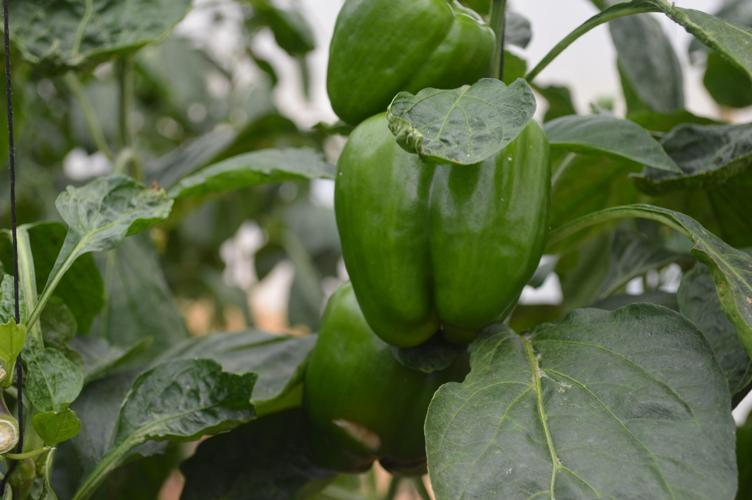BellPepper: (333, 110, 549, 338), (309, 285, 472, 473), (326, 6, 492, 109)
